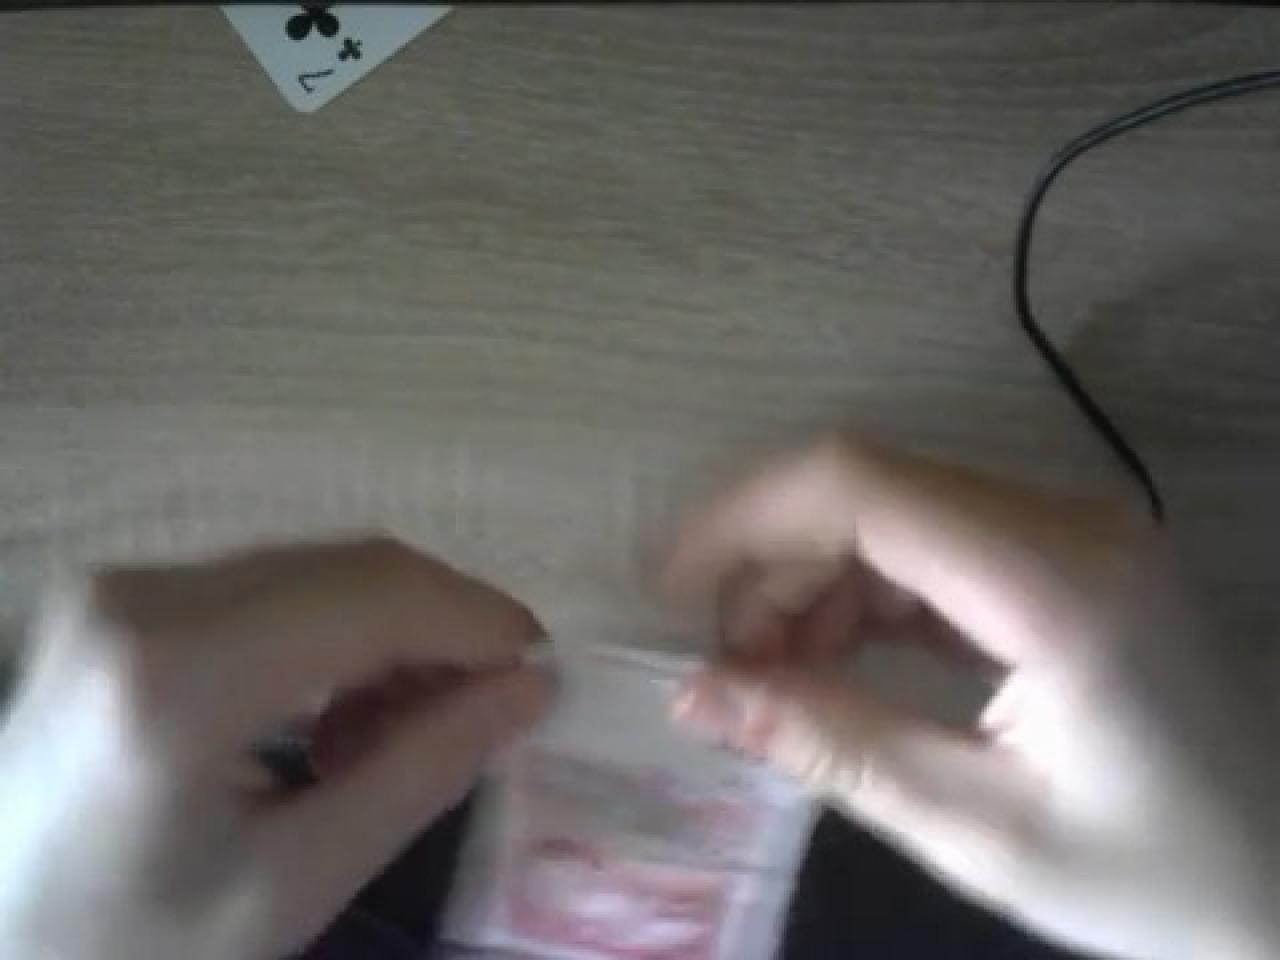5leva: (448, 643, 819, 960)
